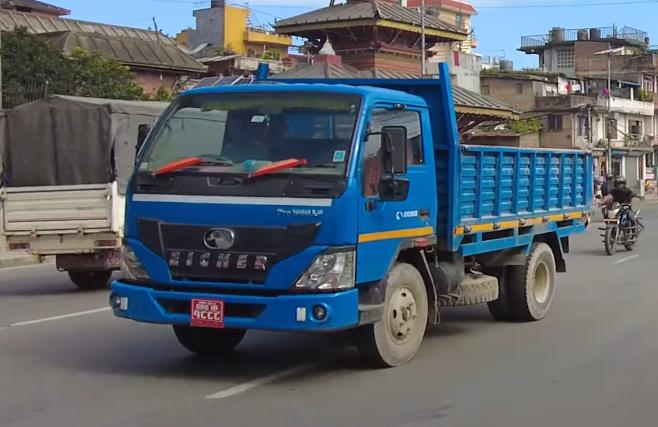bike: (596, 169, 646, 264)
mini_truck: (98, 47, 599, 368)
transport_vehicle: (0, 78, 174, 287)
